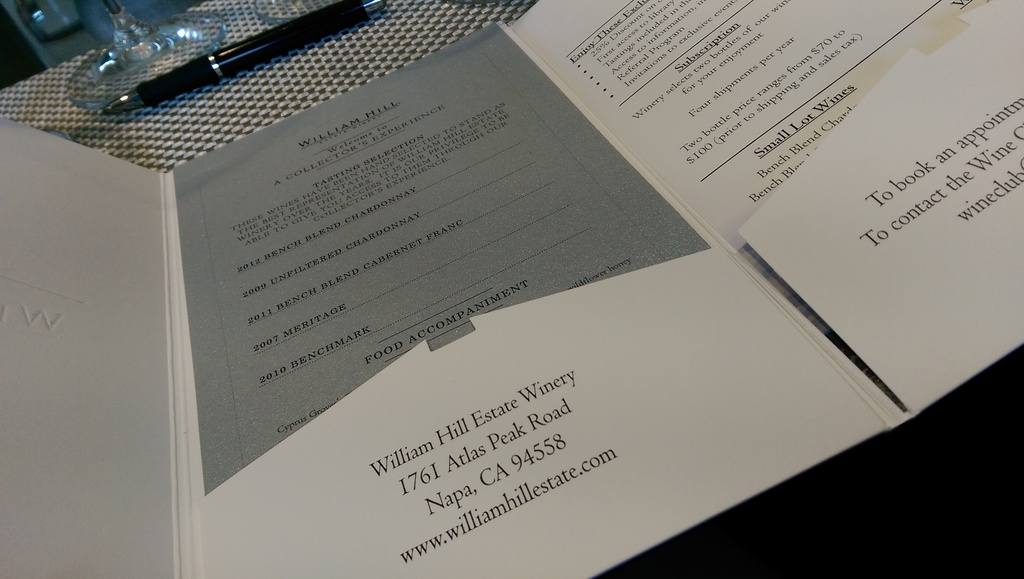Pen: (101, 0, 387, 113)
